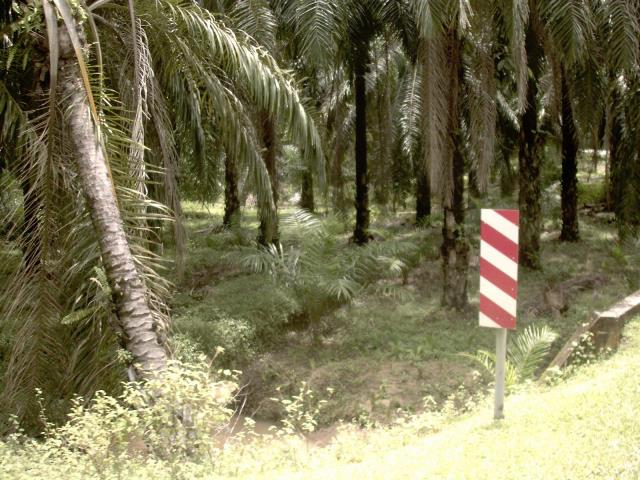traffic_sign: (466, 198, 532, 341)
